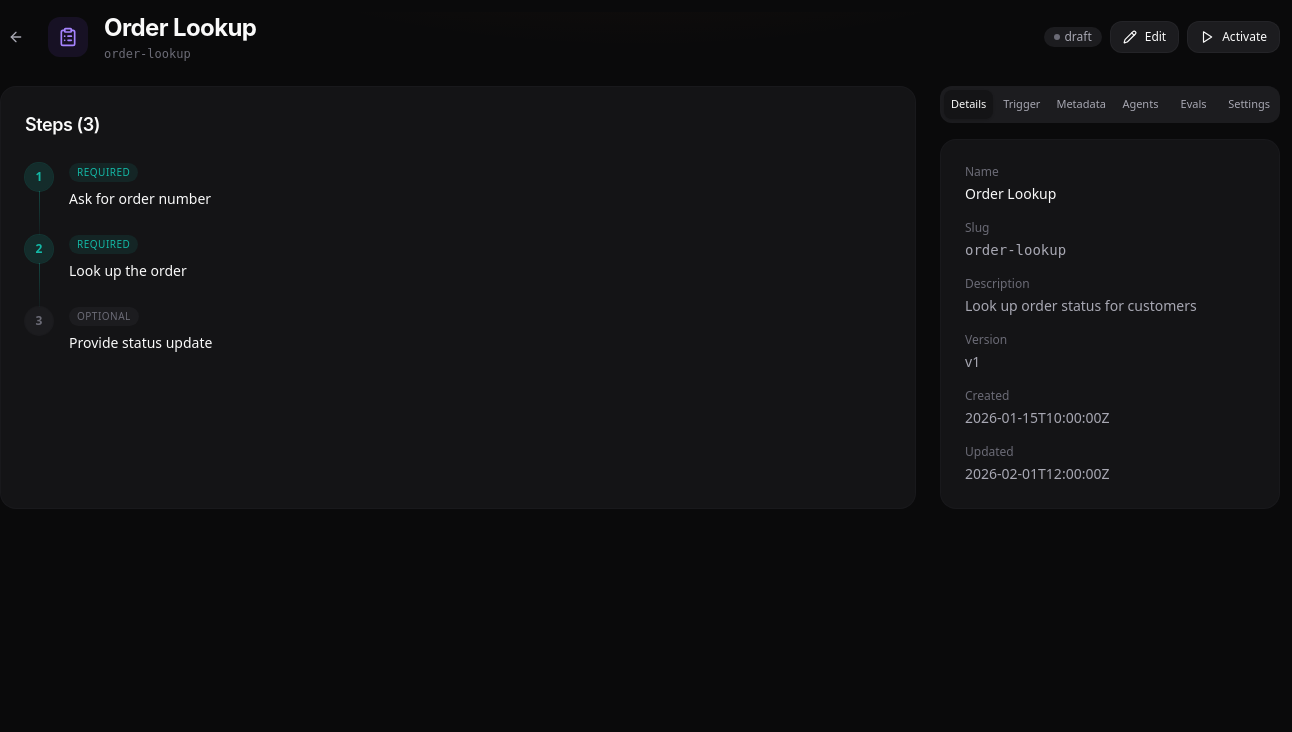
Scenario: SopDetailPage › mutation error feedback › shows error message when activate fails
The width and height of the screenshot is (1292, 732).
Click the button "Activate": (1234, 37) x1=1187 y1=21 x2=1280 y2=53
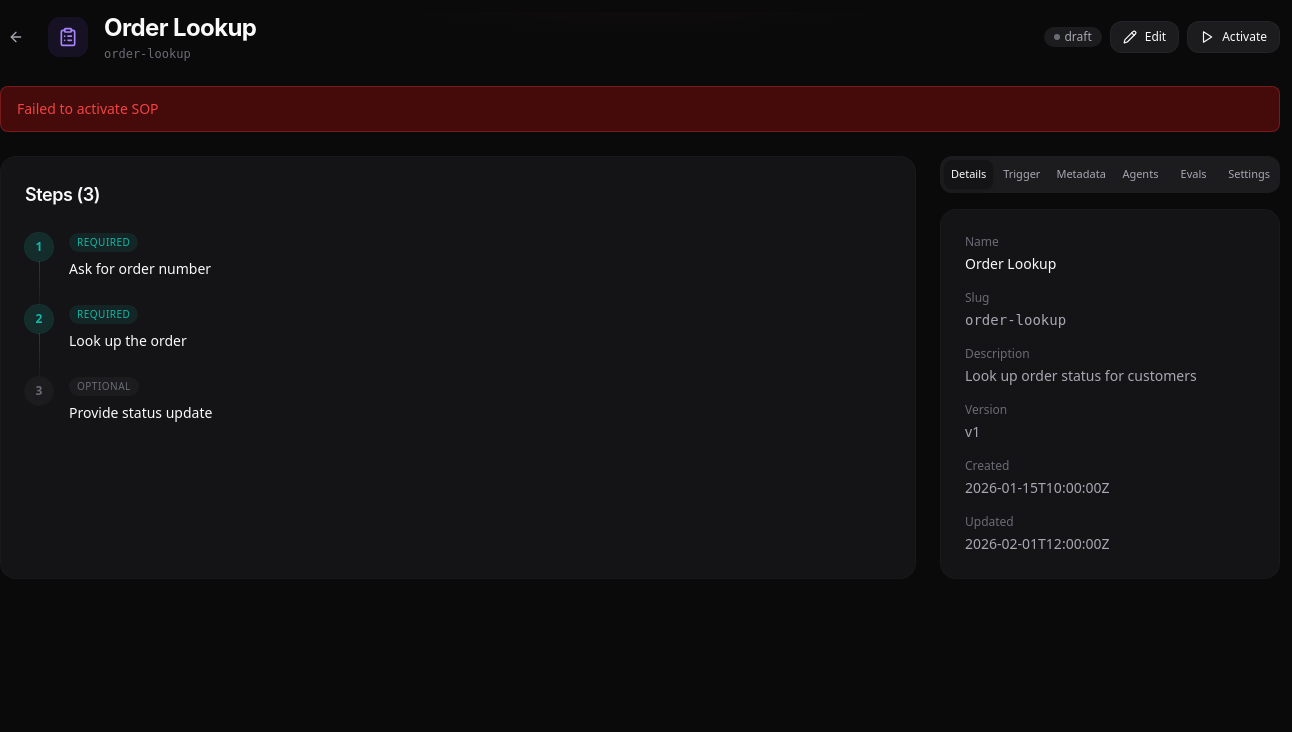
Result: the text "Failed to activate SOP" is shown at x1=17 y1=99 x2=158 y2=118
